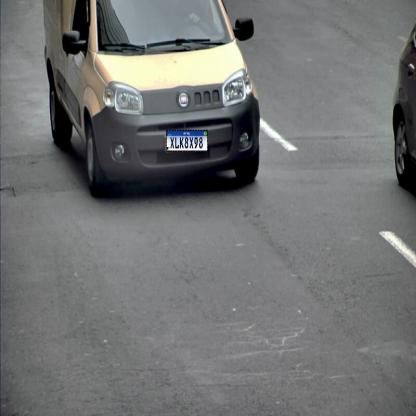PlacaM: (166, 130, 208, 152)
